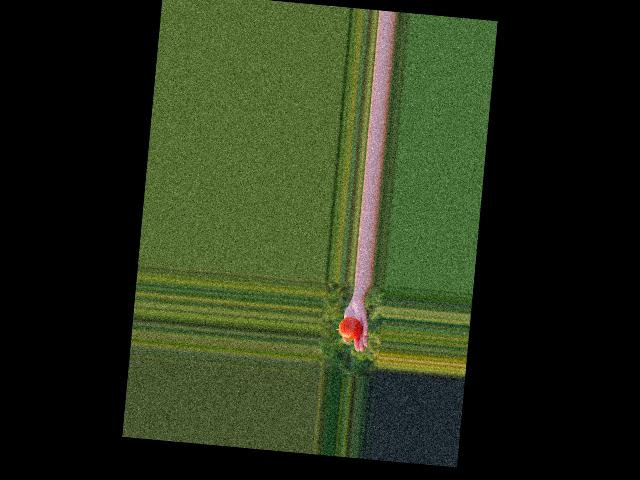tomato: (338, 316, 364, 340)
